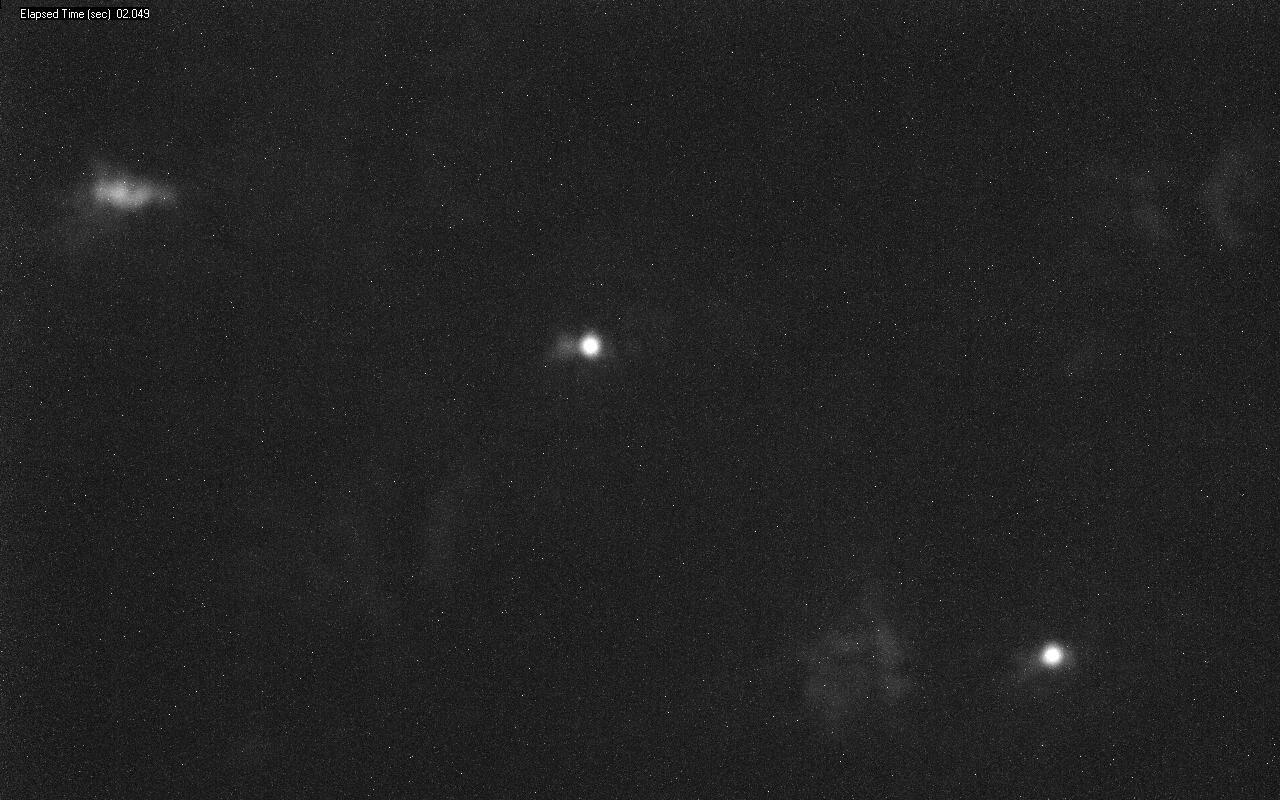Bead: (579, 335, 600, 356), (1042, 646, 1062, 665)
